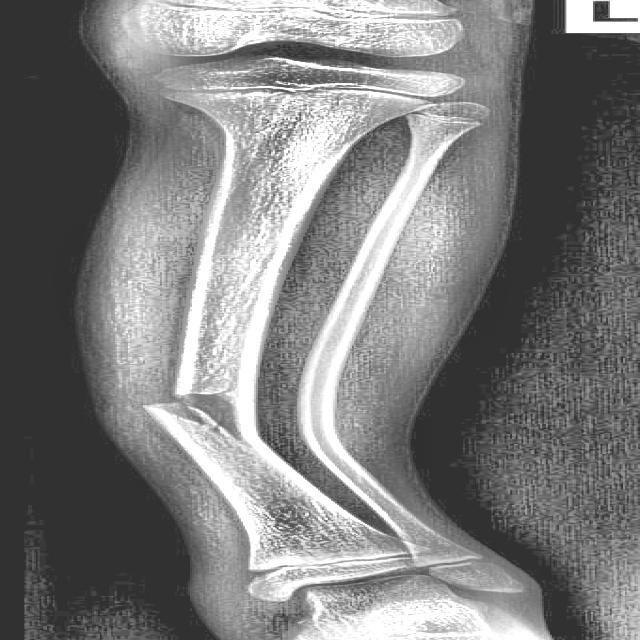fracture: (140, 381, 266, 444)
